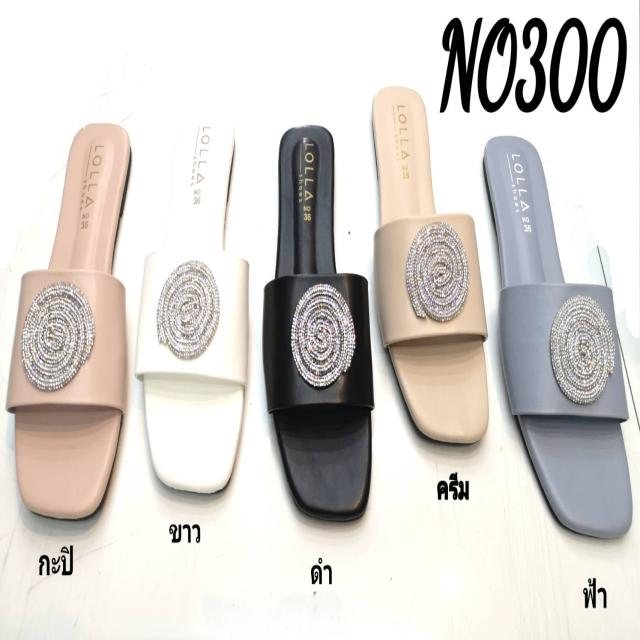black: (271, 130, 370, 520)
blue: (484, 131, 634, 546)
cream: (368, 84, 488, 446)
kapi: (11, 124, 128, 517)
white: (143, 108, 239, 496)
